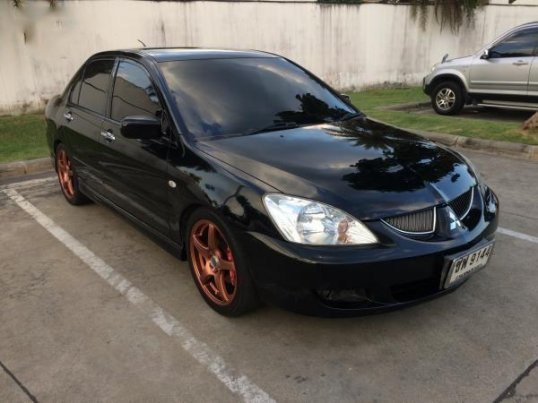sedan: (44, 45, 498, 320)
